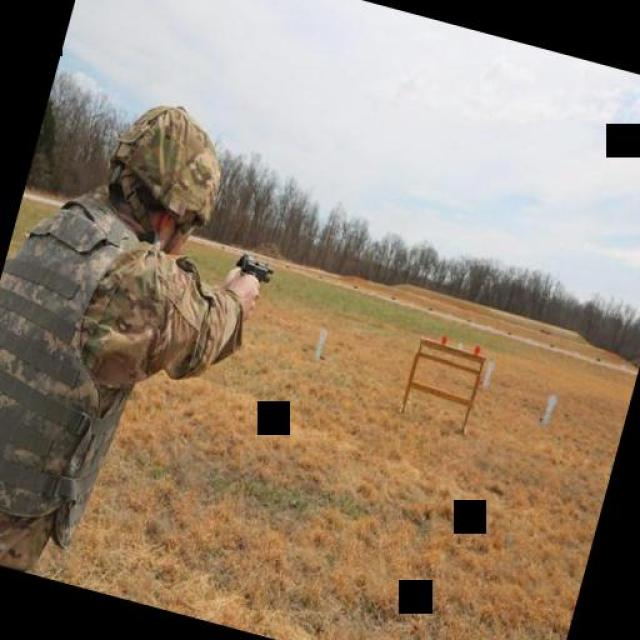gun: (225, 243, 277, 295)
